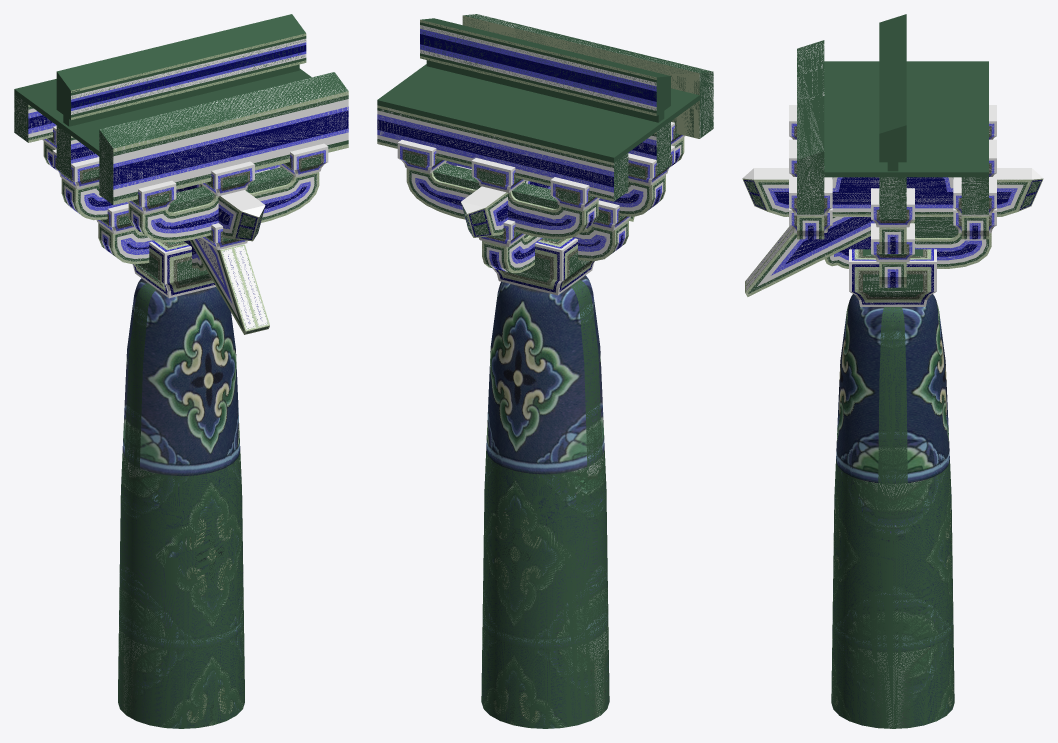
Rendered from green.dae.
3 views of the same model, side by side, from view 1: azimuth 30°, elevation 25°; view 2: azimuth 150°, elevation 25°; view 3: azimuth 270°, elevation 25° (orthographic). The views are drawn at different scales.
Visible parts, largest first — view 1: group_0 (×2), group_7 (×7), group_13 (×9), 令栱_單材_02-4-1 (×6), group_12, group_14, 柱頭用方櫨斗 (×2), 插昂連華栱__2, group_15, group_8, group_16, 散枓_2; view 2: group_0 (×2), group_12, group_13 (×9), group_15 (×7), 令栱_單材_02-4-1 (×6), group_7 (×2), group_14, 柱頭用方櫨斗, group_8, group_16, 散枓_2; view 3: group_0 (×2), group_12, group_8 (×6), group_7, group_13 (×2), 插昂連華栱__2 (×5), 柱頭用方櫨斗 (×5), 插昂連華栱__1 (×5), group_15, group_16, 散枓.
Part boxes in pixels (<box>): group_0 (×2): <box>118,278,244,728</box>; group_7 (×7): <box>99,72,348,204</box>; group_13 (×9): <box>56,14,306,119</box>; 令栱_單材_02-4-1 (×6): <box>128,166,319,242</box>; group_12: <box>14,68,311,155</box>; group_14: <box>63,64,299,126</box>; 柱頭用方櫨斗 (×2): <box>132,241,215,298</box>; 插昂連華栱__2: <box>220,244,269,334</box>; group_15: <box>14,94,52,142</box>; group_8: <box>221,190,265,216</box>; group_16: <box>56,125,75,173</box>; 散枓_2: <box>201,161,254,196</box>; group_0 (×2): <box>481,275,609,728</box>; group_12: <box>377,64,699,162</box>; group_13 (×9): <box>420,18,670,115</box>; group_15 (×7): <box>377,105,628,201</box>; 令栱_單材_02-4-1 (×6): <box>406,162,598,239</box>; group_7 (×2): <box>462,14,713,138</box>; group_14: <box>426,60,664,122</box>; 柱頭用方櫨斗: <box>493,238,594,295</box>; group_8: <box>461,186,505,213</box>; group_16: <box>652,121,670,169</box>; 散枓_2: <box>471,158,525,192</box>; group_0 (×2): <box>831,294,954,728</box>; group_12: <box>824,61,988,177</box>; group_8 (×6): <box>742,168,1043,216</box>; group_7: <box>797,40,824,214</box>; group_13 (×2): <box>879,14,906,162</box>; 插昂連華栱__2 (×5): <box>745,217,874,296</box>; 柱頭用方櫨斗 (×5): <box>849,249,936,306</box>; 插昂連華栱__1 (×5): <box>824,217,991,268</box>; group_15: <box>961,177,988,214</box>; group_16: <box>879,177,906,214</box>; 散枓: <box>871,188,914,227</box>.
Size of the model in its own units: 37.8 by 43.31 by 100.
9 materials, 1 textured.
